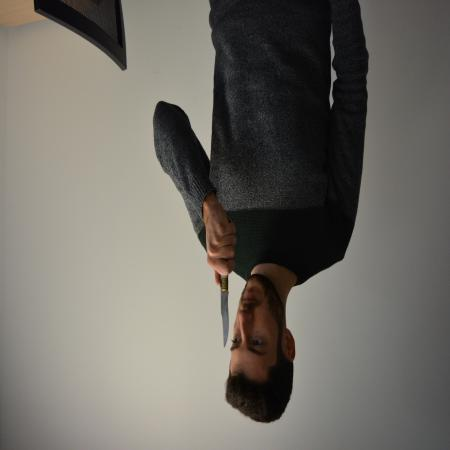long weapon: (212, 258, 236, 350)
